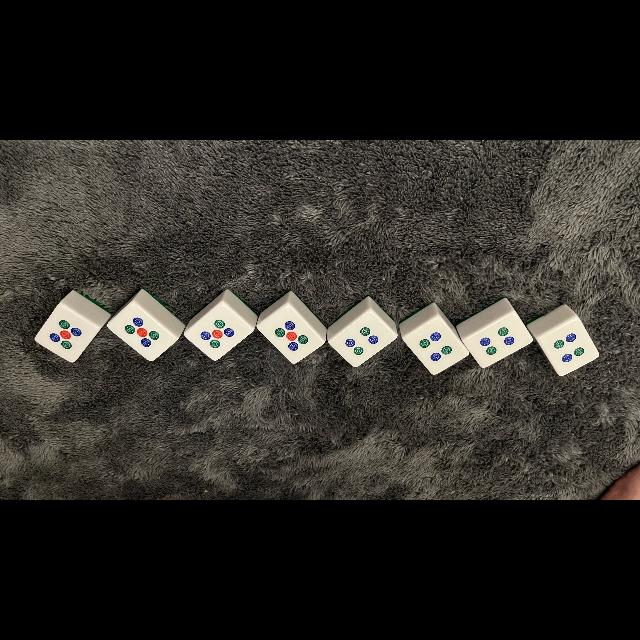d4: (546, 326, 592, 370), (415, 324, 457, 372), (473, 322, 522, 362), (338, 318, 384, 359)
d5: (114, 309, 170, 355), (268, 311, 314, 359), (42, 311, 90, 355), (196, 310, 240, 354)
